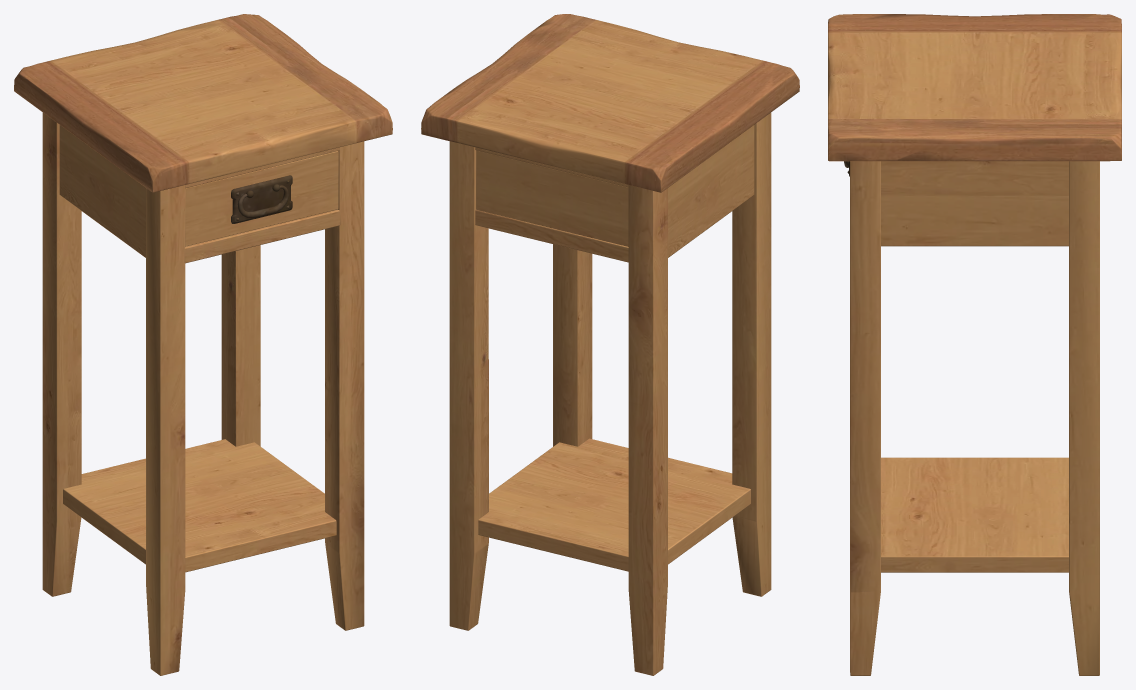
The model's file is B003PBOMJ6.glb.
3 views of the same model, side by side, from view 1: azimuth 30°, elevation 25°; view 2: azimuth 150°, elevation 25°; view 3: azimuth 270°, elevation 25° (orthographic). The views are drawn at different scales.
Visible parts, largest first — view 1: B003PBOMJ6; view 2: B003PBOMJ6; view 3: B003PBOMJ6.
Boxes of the visible parts, x1=… form: B003PBOMJ6: x1=14, y1=14, x2=392, y2=675; B003PBOMJ6: x1=421, y1=14, x2=799, y2=675; B003PBOMJ6: x1=828, y1=14, x2=1121, y2=675.
Bounding box in the file's own units: 0.3599 × 0.7399 × 0.3599.
Materials: 1 (1 with a texture image).
